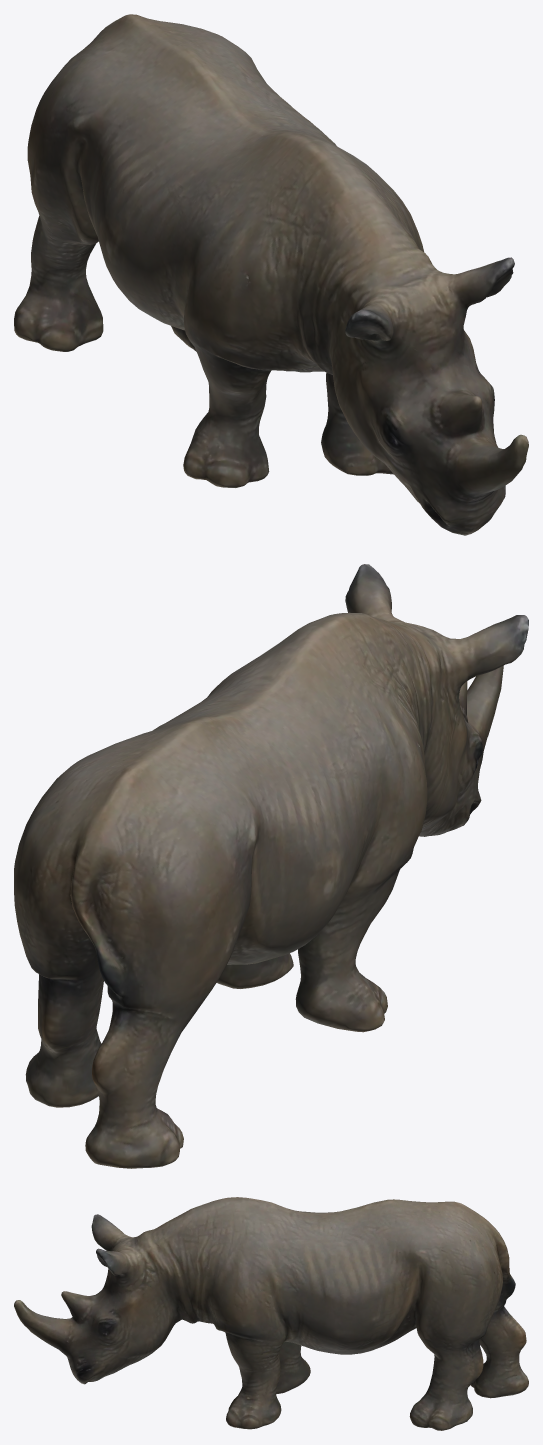
File: Schleich_African_Black_Rhino.glb
3 renders of one model, top to bottom at view 1: azimuth 30°, elevation 25°; view 2: azimuth 150°, elevation 25°; view 3: azimuth 270°, elevation 25°, orthographic. The views are drawn at different scales.
Parts seen in each view (by area): view 1: model.obj; view 2: model.obj; view 3: model.obj.
Boxes of the visible parts, x1,y1,x2,y2 form: model.obj: [14, 14, 528, 535]; model.obj: [14, 564, 528, 1168]; model.obj: [14, 1197, 528, 1430].
Size of the model in its own units: 0.299 by 0.4372 by 1.
Materials: 1 (1 with a texture image).
